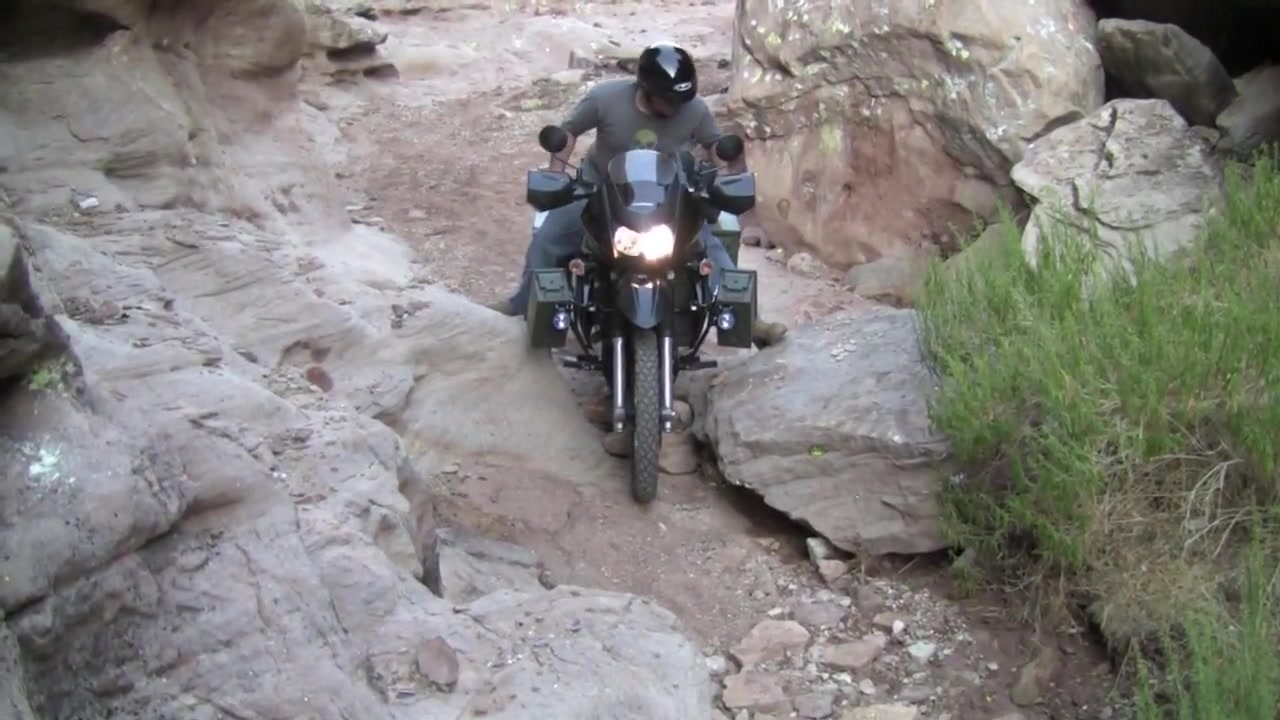motorbike: (525, 122, 761, 502)
